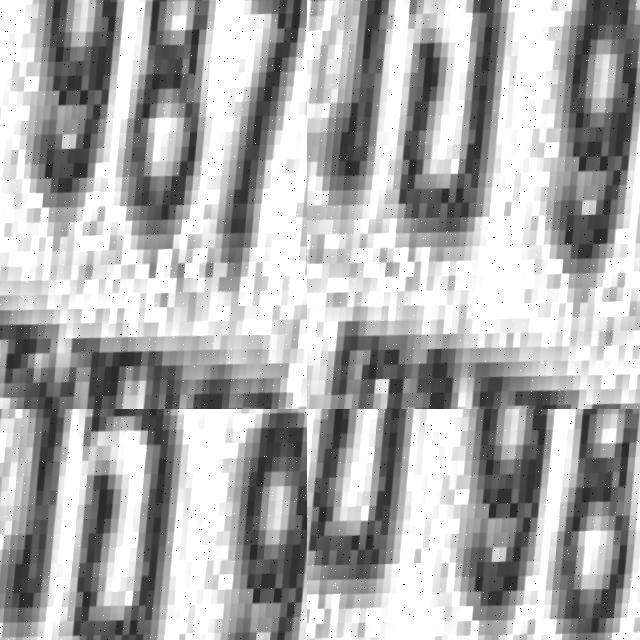license-plate: (307, 0, 640, 409), (307, 409, 640, 640), (0, 409, 307, 640)
